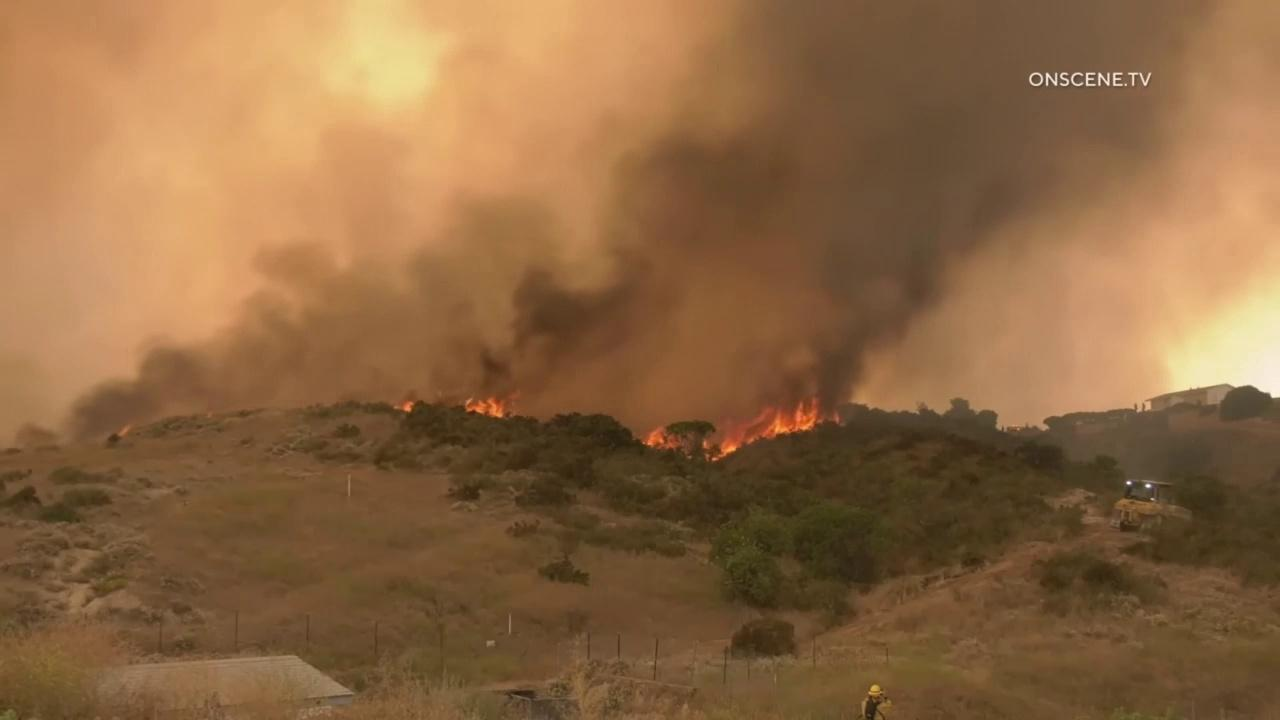fire: (703, 397, 823, 462), (464, 394, 516, 420), (643, 424, 683, 450), (117, 424, 132, 437), (831, 409, 840, 425), (403, 401, 414, 413)
smoke: (0, 0, 1280, 471)
